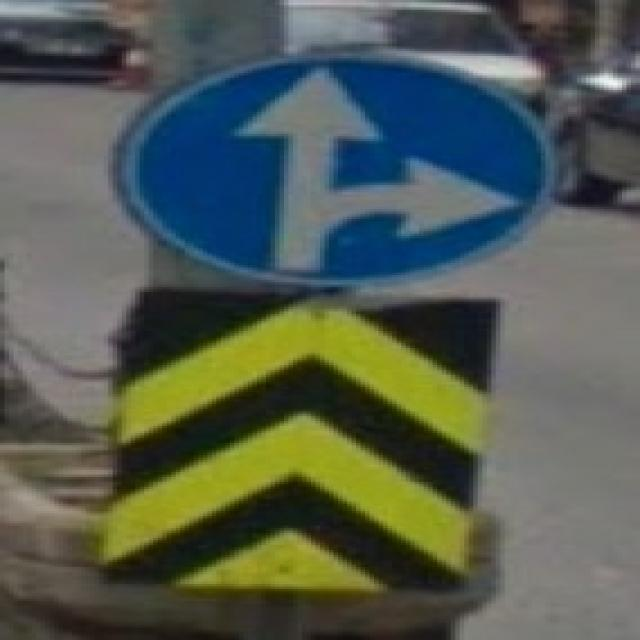Straight or Right: (128, 52, 556, 286)
